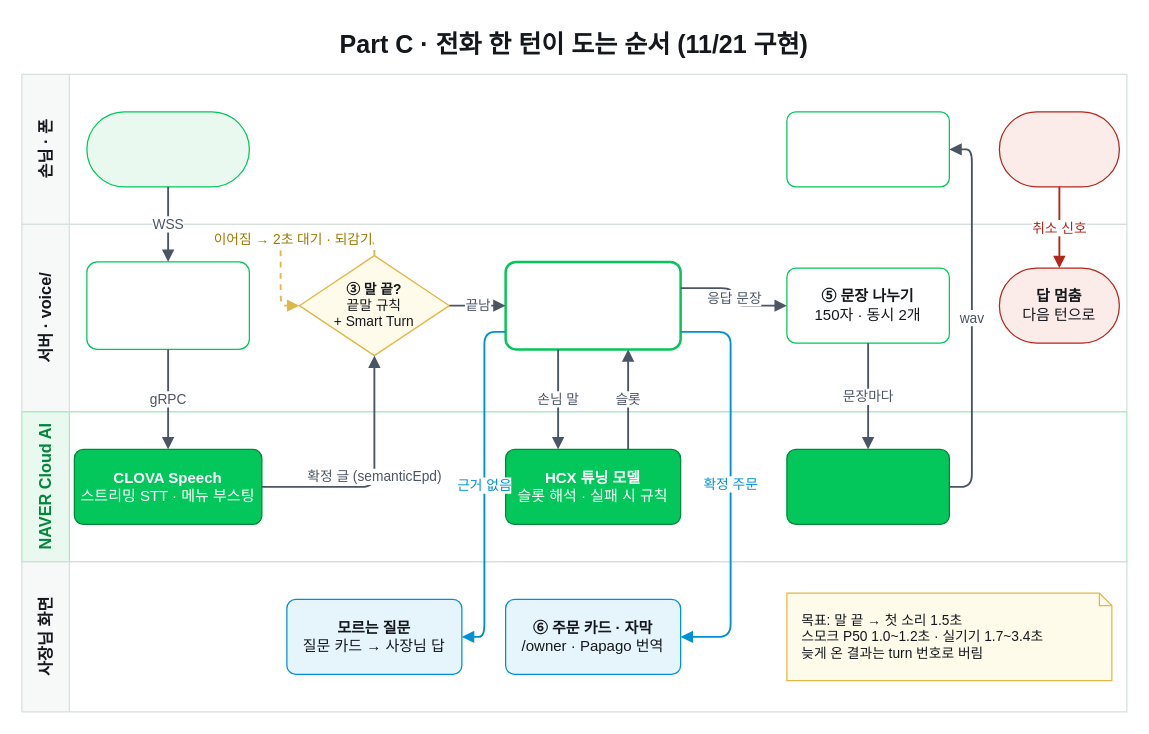
This 1149x734 diagram has some shape labels left out. Here are the shapes that lost their labels. From the top down, the centre of each, then its label:
At (x=167, y=149): "① 통화 시작 /phone · 마이크".
At (x=867, y=149): "⑦ 순서대로 재생 turn · seq 확인".
At (x=1058, y=149): "끼어들기 버튼 · 음성".
At (x=167, y=305): "② 오디오 스트림 16kHz PCM 무음 감지(RMS)".
At (x=592, y=305): "④ 대화 엔진 상태 머신 · 템플릿 대사 메뉴·후기 검색(Part B)".
At (x=867, y=486): "CLOVA Voice nara_call · 200ms 조각".
